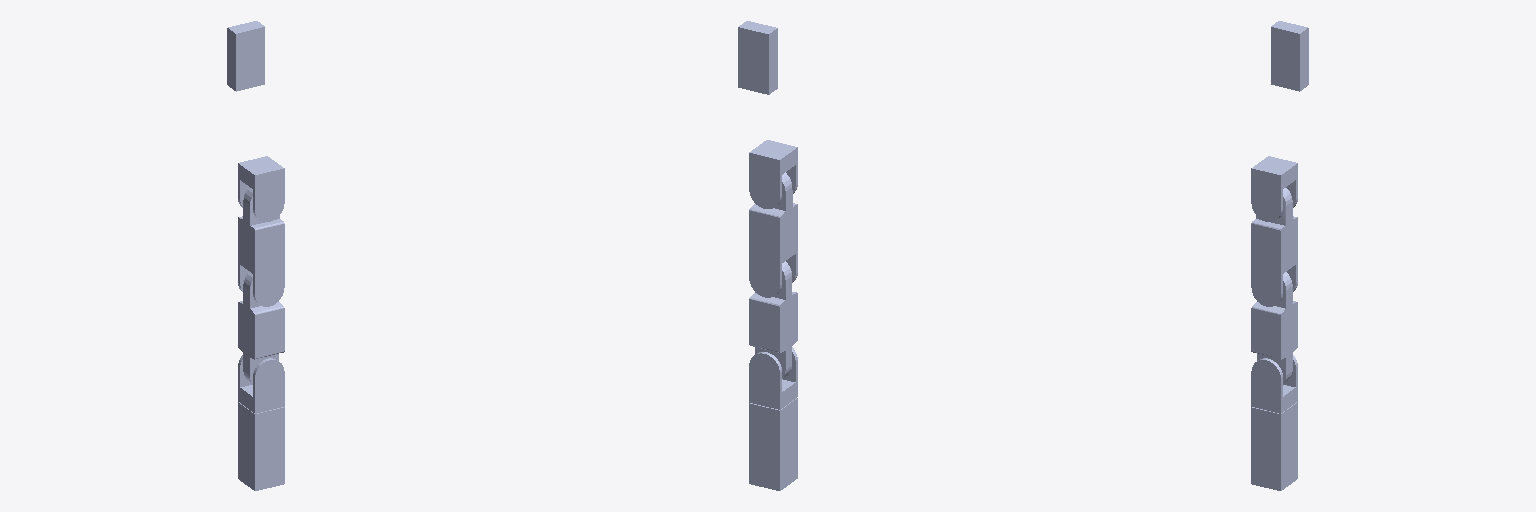
The robot description file, URDF, robot "robot2":
<?xml version="1.0" encoding="utf-8"?>
<!-- This URDF was automatically created by SolidWorks to URDF Exporter! Originally created by Stephen Brawner (brawner@gmail.com) 
     Commit Version: 1.6.0-4-g7f85cfe  Build Version: 1.6.7995.38578
     For more information, please see http://wiki.ros.org/sw_urdf_exporter -->
<robot
  name="robot2">
  <link
    name="left_gripper">
    <inertial>
      <origin
        xyz="1.38777878078145E-17 0 -0.05"
        rpy="0 0 0" />
      <mass
        value="0.1984" />
      <inertia
        ixx="0.000191786666666667"
        ixy="7.12537667757499E-23"
        ixz="-1.03694396819121E-20"
        iyy="0.000191786666666667"
        iyz="-3.50106951531777E-21"
        izz="5.29066666666666E-05" />
    </inertial>
    <visual>
      <origin
        xyz="0 0 0"
        rpy="0 0 0" />
      <geometry>
        <mesh
          filename="meshes/left_gripper_vhacd.obj" />
      </geometry>
      <material
        name="PLA">
        <color
          rgba="0.792156862745098 0.819607843137255 0.933333333333333 1" />
      </material>
    </visual>
    <collision>
      <origin
        xyz="0 0 0"
        rpy="0 0 0" />
      <geometry>
        <mesh
          filename="meshes/left_gripper_vhacd.obj" />
      </geometry>
    </collision>
  </link>
  <link
    name="left_upper_claw">
    <inertial>
      <origin
        xyz="0.0375 0 -1.38777878078145E-17"
        rpy="0 0 0" />
      <mass
        value="0.0744" />
      <inertia
        ixx="1.24E-05"
        ixy="1.50440608525707E-21"
        ixz="-2.07123483442939E-21"
        iyy="4.47949999999999E-05"
        iyz="3.50089890740993E-22"
        izz="3.73549999999999E-05" />
    </inertial>
    <visual>
      <origin
        xyz="0 0 0"
        rpy="0 0 0" />
      <geometry>
        <mesh
          filename="meshes/left_upper_claw_vhacd.obj" />
      </geometry>
      <material
        name="PLA">
        <color
          rgba="0.792156862745098 0.819607843137255 0.933333333333333 1" />
      </material>
    </visual>
    <collision>
      <origin
        xyz="0 0 0"
        rpy="0 0 0" />
      <geometry>
        <mesh
          filename="meshes/left_upper_claw_vhacd.obj" />
      </geometry>
    </collision>
  </link>
  <joint
    name="left_upper_claw"
    type="revolute">
    <origin
      xyz="0 0.035 -0.01"
      rpy="0 -1.5707963267949 0" />
    <parent
      link="left_gripper" />
    <child
      link="left_upper_claw" />
    <axis
      xyz="0 0 1" />
    <limit
      lower="-1.745"
      upper="1.745"
      effort="3.6"
      velocity="35" />
    <dynamics
      damping="0"
      friction="0" />
    <safety_controller
      soft_upper_limit="1.6"
      soft_lower_limit="-1.6"
      k_position="50"
      k_velocity="5" />
  </joint>
  <link
    name="left_lower_claw">
    <inertial>
      <origin
        xyz="0.0375 0 1.38777878078145E-17"
        rpy="0 0 0" />
      <mass
        value="0.0744" />
      <inertia
        ixx="1.24E-05"
        ixy="1.32931652522966E-21"
        ixz="1.82029909147236E-21"
        iyy="4.4795E-05"
        iyz="-1.01402505948846E-21"
        izz="3.7355E-05" />
    </inertial>
    <visual>
      <origin
        xyz="0 0 0"
        rpy="0 0 0" />
      <geometry>
        <mesh
          filename="meshes/left_lower_claw_vhacd.obj" />
      </geometry>
      <material
        name="PLA">
        <color
          rgba="0.792156862745098 0.819607843137255 0.933333333333333 1" />
      </material>
    </visual>
    <collision>
      <origin
        xyz="0 0 0"
        rpy="0 0 0" />
      <geometry>
        <mesh
          filename="meshes/left_lower_claw_vhacd.obj" />
      </geometry>
    </collision>
  </link>
  <joint
    name="left_lower_claw"
    type="revolute">
    <origin
      xyz="0 0.035 -0.05"
      rpy="3.14159265358979 1.5707963267949 0" />
    <parent
      link="left_gripper" />
    <child
      link="left_lower_claw" />
    <axis
      xyz="0 0 1" />
    <limit
      lower="-1.745"
      upper="1.745"
      effort="3.6"
      velocity="35" />
    <dynamics
      damping="0"
      friction="0" />
    <safety_controller
      soft_upper_limit="1.6"
      soft_lower_limit="-1.6"
      k_position="50"
      k_velocity="5" />
  </joint>
  <link
    name="left_wrist">
    <inertial>
      <origin
        xyz="2.77555756156289E-17 5.55111512312578E-17 -0.0203239143677927"
        rpy="0 0 0" />
      <mass
        value="0.0598797497271094" />
      <inertia
        ixx="2.83514714221562E-05"
        ixy="1.60247341631209E-21"
        ixz="5.00774067546307E-21"
        iyy="2.45583425818454E-05"
        iyz="1.72925029038091E-20"
        izz="1.92447168247394E-05" />
    </inertial>
    <visual>
      <origin
        xyz="0 0 0"
        rpy="0 0 0" />
      <geometry>
        <mesh
          filename="meshes/left_wrist_vhacd.obj" />
      </geometry>
      <material
        name="">
        <color
          rgba="0.792156862745098 0.819607843137255 0.933333333333333 1" />
      </material>
    </visual>
    <collision>
      <origin
        xyz="0 0 0"
        rpy="0 0 0" />
      <geometry>
        <mesh
          filename="meshes/left_wrist_vhacd.obj" />
      </geometry>
    </collision>
  </link>
  <joint
    name="left_wrist"
    type="revolute">
    <origin
      xyz="0 0 -0.101"
      rpy="0 0 0" />
    <parent
      link="left_gripper" />
    <child
      link="left_wrist" />
    <axis
      xyz="0 0 1" />
    <limit
      lower="-2.355"
      upper="2.355"
      effort="1.8"
      velocity="35" />
    <dynamics
      damping="0.1"
      friction="0.5" />
    <safety_controller
      soft_upper_limit="2.2"
      soft_lower_limit="-2.2"
      k_position="50"
      k_velocity="5" />
  </joint>
  <link
    name="left_elbow">
    <inertial>
      <origin
        xyz="0.0519861622557855 -1.38777878078145E-17 0"
        rpy="0 0 0" />
      <mass
        value="0.169517874452257" />
      <inertia
        ixx="4.459142196571E-05"
        ixy="-7.33394760843222E-21"
        ixz="-3.84813847294448E-20"
        iyy="0.000193478456012748"
        iyz="-9.44590606995044E-22"
        izz="0.000192793275604156" />
    </inertial>
    <visual>
      <origin
        xyz="0 0 0"
        rpy="0 0 0" />
      <geometry>
        <mesh
          filename="meshes/left_elbow_vhacd.obj" />
      </geometry>
      <material
        name="PLA">
        <color
          rgba="0.792156862745098 0.819607843137255 0.933333333333333 1" />
      </material>
    </visual>
    <collision>
      <origin
        xyz="0 0 0"
        rpy="0 0 0" />
      <geometry>
        <mesh
          filename="meshes/left_elbow_vhacd.obj" />
      </geometry>
    </collision>
  </link>
  <joint
    name="left_elbow"
    type="revolute">
    <origin
      xyz="0 0 -0.0449675346036963"
      rpy="1.5707963267949 1.5707963267949 0" />
    <parent
      link="left_wrist" />
    <child
      link="left_elbow" />
    <axis
      xyz="0 0 1" />
    <limit
      lower="-1.745"
      upper="1.745"
      effort="3.6"
      velocity="73.304" />
    <dynamics
      damping="0"
      friction="0" />
    <safety_controller
      soft_upper_limit="1.6"
      soft_lower_limit="-1.6"
      k_position="50"
      k_velocity="5" />
  </joint>
  <link
    name="shoulder">
    <inertial>
      <origin
        xyz="0.0549999699040954 1.67088565206086E-14 -2.77555756156289E-17"
        rpy="0 0 0" />
      <mass
        value="0.179613404560029" />
      <inertia
        ixx="4.01227314663187E-05"
        ixy="-3.36313975620511E-20"
        ixz="6.36417253661814E-19"
        iyy="0.000216670326834755"
        iyz="-4.05445173698807E-21"
        izz="0.000222886273294934" />
    </inertial>
    <visual>
      <origin
        xyz="0 0 0"
        rpy="0 0 0" />
      <geometry>
        <mesh
          filename="meshes/shoulder_vhacd.obj" />
      </geometry>
      <material
        name="PLA">
        <color
          rgba="0.792156862745098 0.819607843137255 0.933333333333333 1" />
      </material>
    </visual>
    <collision>
      <origin
        xyz="0 0 0"
        rpy="0 0 0" />
      <geometry>
        <mesh
          filename="meshes/shoulder_vhacd.obj" />
      </geometry>
    </collision>
  </link>
  <joint
    name="shoulder"
    type="revolute">
    <origin
      xyz="0.11 0 0"
      rpy="0 0 0" />
    <parent
      link="left_elbow" />
    <child
      link="shoulder" />
    <axis
      xyz="0 0 1" />
    <limit
      lower="-1.745"
      upper="1.745"
      effort="3.6"
      velocity="73.304" />
    <dynamics
      damping="0"
      friction="0" />
    <safety_controller
      soft_upper_limit="1.6"
      soft_lower_limit="-1.6"
      k_position="50"
      k_velocity="5" />
  </joint>
  <link
    name="right_elbow">
    <inertial>
      <origin
        xyz="0.0246436202359037 1.38777878078145E-17 0"
        rpy="0 0 0" />
      <mass
        value="0.0598797497271095" />
      <inertia
        ixx="1.92447168247398E-05"
        ixy="-1.06642828021614E-20"
        ixz="3.61294353900124E-20"
        iyy="2.83514714221567E-05"
        iyz="2.52356304318231E-21"
        izz="2.45583425818454E-05" />
    </inertial>
    <visual>
      <origin
        xyz="0 0 0"
        rpy="0 0 0" />
      <geometry>
        <mesh
          filename="meshes/right_elbow_vhacd.obj" />
      </geometry>
      <material
        name="PLA">
        <color
          rgba="0.792156862745098 0.819607843137255 0.933333333333333 1" />
      </material>
    </visual>
    <collision>
      <origin
        xyz="0 0 0"
        rpy="0 0 0" />
      <geometry>
        <mesh
          filename="meshes/right_elbow_vhacd.obj" />
      </geometry>
    </collision>
  </link>
  <joint
    name="right_elbow"
    type="revolute">
    <origin
      xyz="0.109999939808191 0 0"
      rpy="0 0 0" />
    <parent
      link="shoulder" />
    <child
      link="right_elbow" />
    <axis
      xyz="0 0 1" />
    <limit
      lower="-1.745"
      upper="1.745"
      effort="3.6"
      velocity="73.304" />
    <dynamics
      damping="0"
      friction="0" />
    <safety_controller
      soft_upper_limit="1.6"
      soft_lower_limit="-1.6"
      k_position="50"
      k_velocity="5" />
  </joint>
  <link
    name="right_wrist">
    <inertial>
      <origin
        xyz="-1.38777878078145E-17 0 0.051"
        rpy="0 0 0" />
      <mass
        value="0.1984" />
      <inertia
        ixx="0.000191786666666666"
        ixy="1.67928099088315E-21"
        ixz="5.1934719545732E-20"
        iyy="0.000191786666666666"
        iyz="-4.06750839468013E-20"
        izz="5.29066666666666E-05" />
    </inertial>
    <visual>
      <origin
        xyz="0 0 0"
        rpy="0 0 0" />
      <geometry>
        <mesh
          filename="meshes/right_wrist_vhacd.obj" />
      </geometry>
      <material
        name="PLA">
        <color
          rgba="0.792156862745098 0.819607843137255 0.933333333333333 1" />
      </material>
    </visual>
    <collision>
      <origin
        xyz="0 0 0"
        rpy="0 0 0" />
      <geometry>
        <mesh
          filename="meshes/right_wrist_vhacd.obj" />
      </geometry>
    </collision>
  </link>
  <joint
    name="right_wrist"
    type="revolute">
    <origin
      xyz="0.0449675346036963 0 0"
      rpy="-1.5707963267949 0 -1.5707963267949" />
    <parent
      link="right_elbow" />
    <child
      link="right_wrist" />
    <axis
      xyz="0 0 1" />
    <limit
      lower="-2.355"
      upper="2.355"
      effort="1.8"
      velocity="35" />
    <dynamics
      damping="0.1"
      friction="0.5" />
    <safety_controller
      soft_upper_limit="2.2"
      soft_lower_limit="-2.2"
      k_position="50"
      k_velocity="5" />
  </joint>
  <link
    name="right_gripper">
    <inertial>
      <origin
        xyz="0 0 -0.05"
        rpy="0 0 0" />
      <mass
        value="0" />
      <inertia
        ixx="0"
        ixy="0"
        ixz="0"
        iyy="0"
        iyz="0"
        izz="0" />
    </inertial>
    <visual>
      <origin
        xyz="0 0 0"
        rpy="0 0 0" />
      <geometry>
        <mesh
          filename="meshes/right_gripper_vhacd.obj" />
      </geometry>
      <material
        name="">
        <color
          rgba="0.792156862745098 0.819607843137255 0.933333333333333 1" />
      </material>
    </visual>
    <collision>
      <origin
        xyz="0 0 0"
        rpy="0 0 0" />
      <geometry>
        <mesh
          filename="meshes/right_gripper_vhacd.obj" />
      </geometry>
    </collision>
  </link>
  <joint
    name="right_gripper"
    type="fixed">
    <origin
      xyz="0 0 0.101"
      rpy="0 0 0" />
    <parent
      link="right_wrist" />
    <child
      link="right_gripper" />
    <axis
      xyz="0 0 0" />
  </joint>
  <link
    name="right_upper_claw">
    <inertial>
      <origin
        xyz="0.0375 -2.77555756156289E-17 0"
        rpy="0 0 0" />
      <mass
        value="0.0743999999999999" />
      <inertia
        ixx="1.24E-05"
        ixy="-6.94351490206816E-22"
        ixz="7.46347906192529E-21"
        iyy="4.47949999999999E-05"
        iyz="6.39307897020214E-22"
        izz="3.73549999999999E-05" />
    </inertial>
    <visual>
      <origin
        xyz="0 0 0"
        rpy="0 0 0" />
      <geometry>
        <mesh
          filename="meshes/right_upper_claw_vhacd.obj" />
      </geometry>
      <material
        name="PLA">
        <color
          rgba="0.792156862745098 0.819607843137255 0.933333333333333 1" />
      </material>
    </visual>
    <collision>
      <origin
        xyz="0 0 0"
        rpy="0 0 0" />
      <geometry>
        <mesh
          filename="meshes/right_upper_claw_vhacd.obj" />
      </geometry>
    </collision>
  </link>
  <joint
    name="right_upper_claw"
    type="revolute">
    <origin
      xyz="0 0.035 -0.01"
      rpy="0 -1.5707963267949 0" />
    <parent
      link="right_gripper" />
    <child
      link="right_upper_claw" />
    <axis
      xyz="0 0 1" />
    <limit
      lower="-1.745"
      upper="1.745"
      effort="3.6"
      velocity="35" />
    <dynamics
      damping="0"
      friction="0" />
    <safety_controller
      soft_upper_limit="1.6"
      soft_lower_limit="-1.6"
      k_position="50"
      k_velocity="5" />
  </joint>
  <link
    name="right_lower_claw">
    <inertial>
      <origin
        xyz="0.0375 0 1.38777878078145E-17"
        rpy="0 0 0" />
      <mass
        value="0.0744" />
      <inertia
        ixx="1.24E-05"
        ixy="-1.92880193302038E-21"
        ixz="6.62488284817741E-21"
        iyy="4.4795E-05"
        iyz="-3.41452072886653E-22"
        izz="3.7355E-05" />
    </inertial>
    <visual>
      <origin
        xyz="0 0 0"
        rpy="0 0 0" />
      <geometry>
        <mesh
          filename="meshes/right_lower_claw_vhacd.obj" />
      </geometry>
      <material
        name="PLA">
        <color
          rgba="0.792156862745098 0.819607843137255 0.933333333333333 1" />
      </material>
    </visual>
    <collision>
      <origin
        xyz="0 0 0"
        rpy="0 0 0" />
      <geometry>
        <mesh
          filename="meshes/right_lower_claw_vhacd.obj" />
      </geometry>
    </collision>
  </link>
  <joint
    name="right_lower_claw"
    type="revolute">
    <origin
      xyz="0 0.035 -0.05"
      rpy="3.14159265358979 1.5707963267949 0" />
    <parent
      link="right_gripper" />
    <child
      link="right_lower_claw" />
    <axis
      xyz="0 0 1" />
    <limit
      lower="-1.745"
      upper="1.745"
      effort="3.6"
      velocity="35" />
    <dynamics
      damping="0"
      friction="0" />
    <safety_controller
      soft_upper_limit="1.6"
      soft_lower_limit="-1.6"
      k_position="50"
      k_velocity="5" />
  </joint>
</robot>

--- What the picture shows (computed from the rendered views, not written in the file) ---
3 views of the same robot in one strip: view 1: azimuth 30°, elevation 25°; view 2: azimuth 150°, elevation 25°; view 3: azimuth 330°, elevation 25° (orthographic).
Model robot2 with 11 links and 10 joints (9 revolute, 1 fixed), rooted at left_gripper, posed every joint at zero.
Visible links, largest first — view 1: left_elbow, shoulder, right_wrist, left_upper_claw, left_wrist, right_elbow, right_gripper; view 2: left_elbow, shoulder, right_wrist, left_upper_claw, left_wrist, right_elbow, right_gripper; view 3: left_elbow, shoulder, left_upper_claw, left_wrist, right_gripper, right_elbow, right_wrist.
Link boxes in pixels (<box>): left_elbow: <box>238,188,284,306</box>; shoulder: <box>238,272,284,383</box>; right_wrist: <box>238,403,284,490</box>; left_upper_claw: <box>227,21,264,91</box>; left_wrist: <box>238,156,284,221</box>; right_elbow: <box>238,355,284,413</box>; right_gripper: <box>238,402,284,489</box>; left_elbow: <box>749,172,797,297</box>; shoulder: <box>749,261,797,378</box>; right_wrist: <box>749,398,797,490</box>; left_upper_claw: <box>738,21,777,94</box>; left_wrist: <box>749,140,797,208</box>; right_elbow: <box>749,347,797,409</box>; right_gripper: <box>749,398,797,490</box>; left_elbow: <box>1251,188,1297,306</box>; shoulder: <box>1251,272,1297,383</box>; left_upper_claw: <box>1271,21,1308,91</box>; left_wrist: <box>1251,156,1297,221</box>; right_gripper: <box>1251,402,1297,490</box>; right_elbow: <box>1251,355,1297,413</box>; right_wrist: <box>1251,408,1282,490</box>.
Size in the robot's own frame: 0.0402 by 0.0652 by 0.5771 metres.
Meshes: 11 distinct files referenced, 7 mesh visuals loaded (7 OBJ); not drawn: 4 (reference not matched to a file when rendering).
